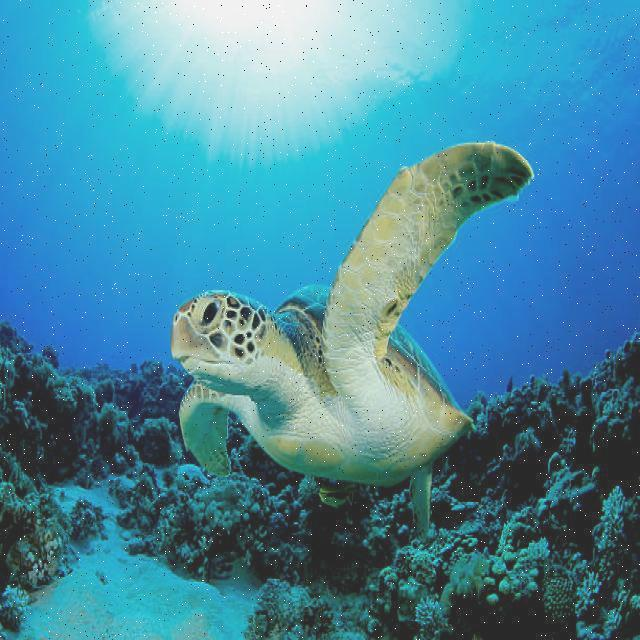tortoise: (150, 137, 558, 486)
